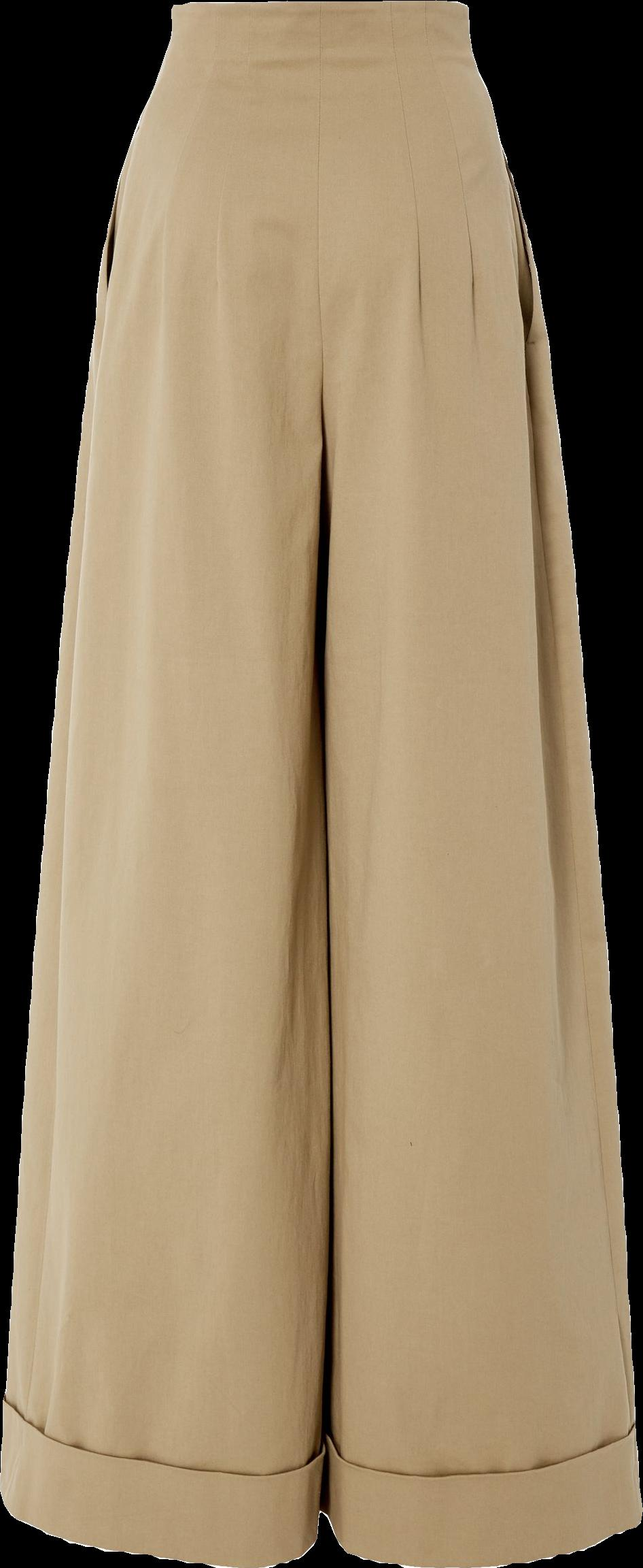Pantleg: (1, 0, 334, 1567), (315, 3, 642, 1567)
Waistline: (160, 42, 481, 78), (166, 0, 471, 26)
